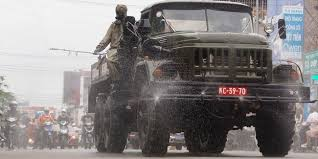plate: (219, 86, 248, 96)
